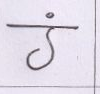anusvara: (46, 13, 53, 18)
